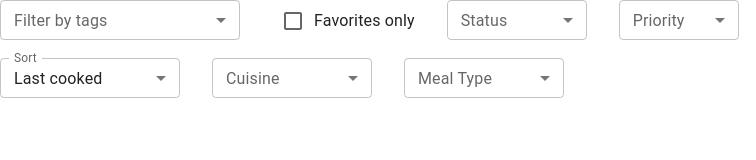
RecipeFilterBar Component › Edge cases › should handle single available tag
Note: Open dropdown
Click the dropdown named "filter by tags" next to "Filter by tags".
click(120, 20)  # box [0,0,240,40]
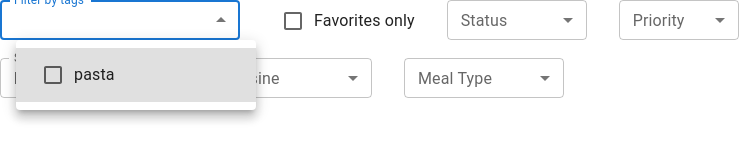
Now the number of options is 1, box [16,48,256,102]
Now the text "pasta" is shown, box [74,65,115,84]
